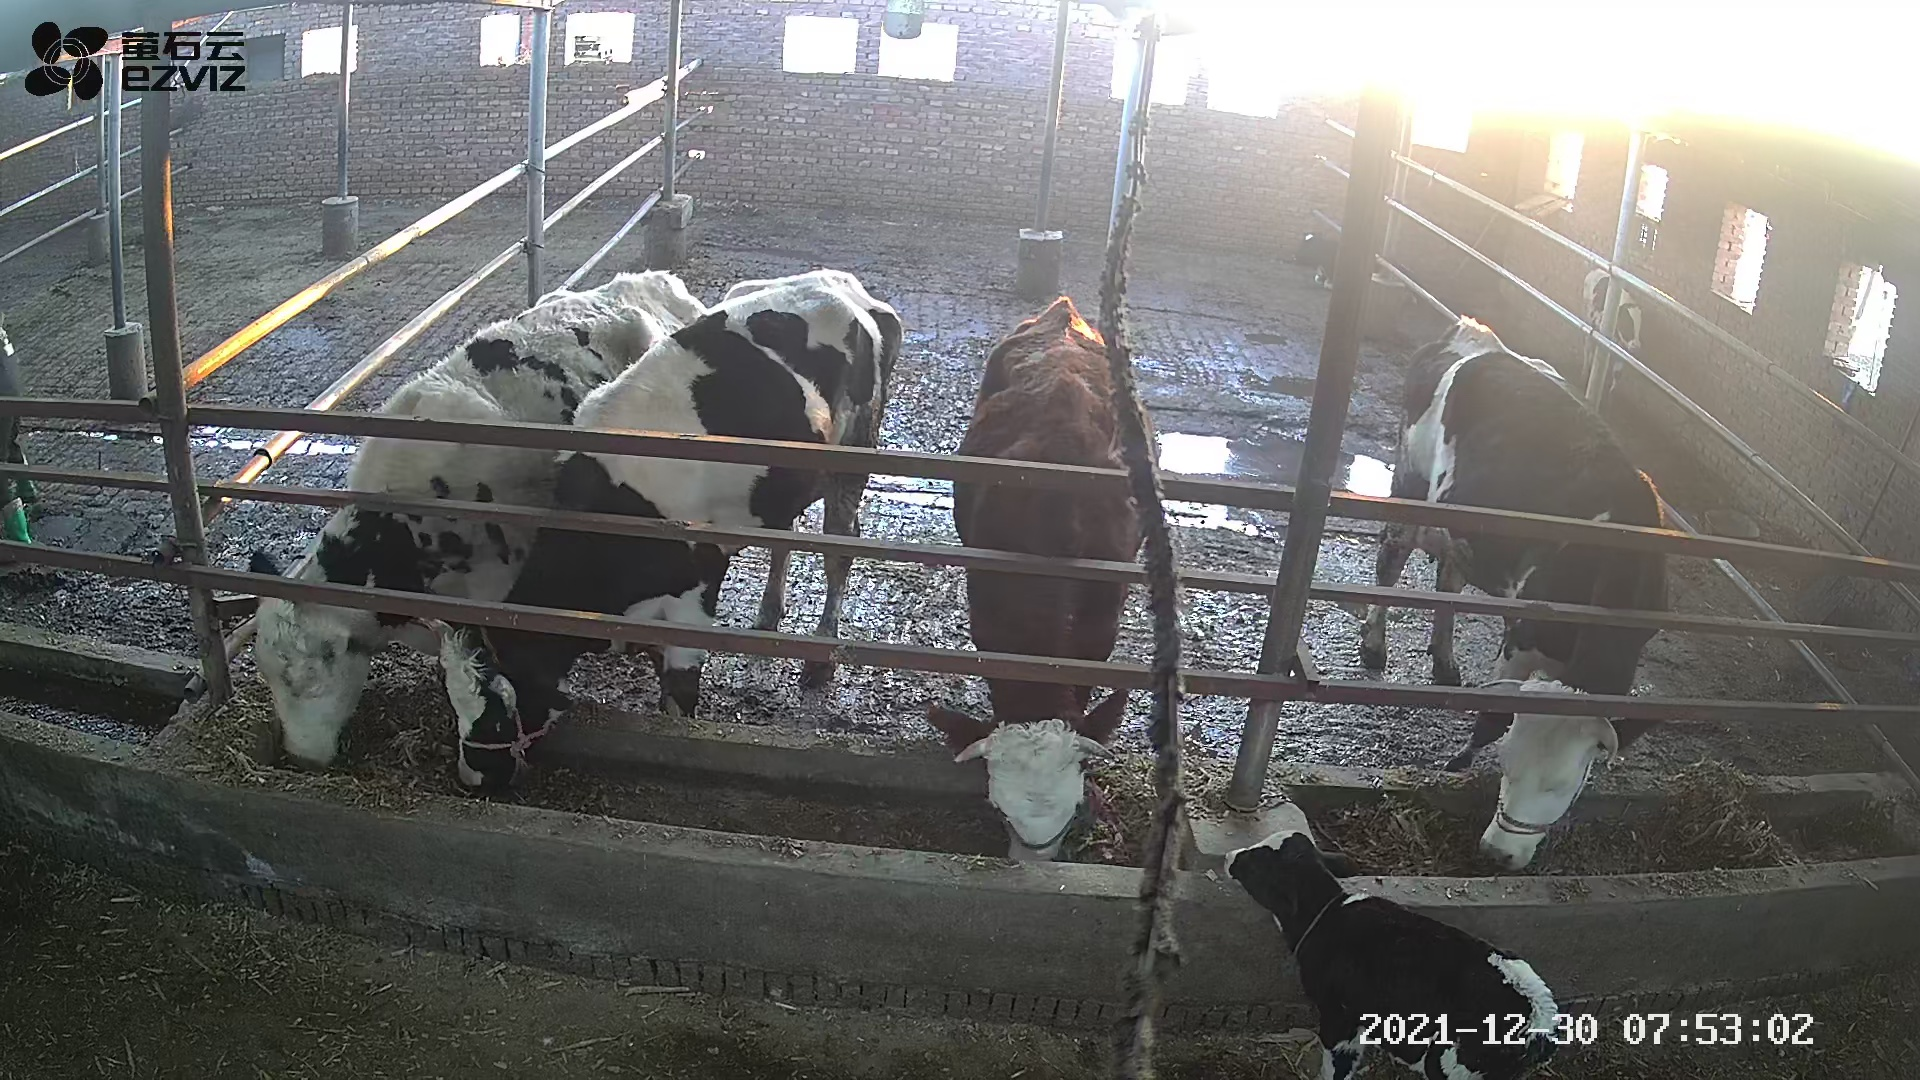cow: (421, 266, 902, 800), (252, 268, 707, 766), (1354, 311, 1671, 872), (949, 295, 1162, 862)
